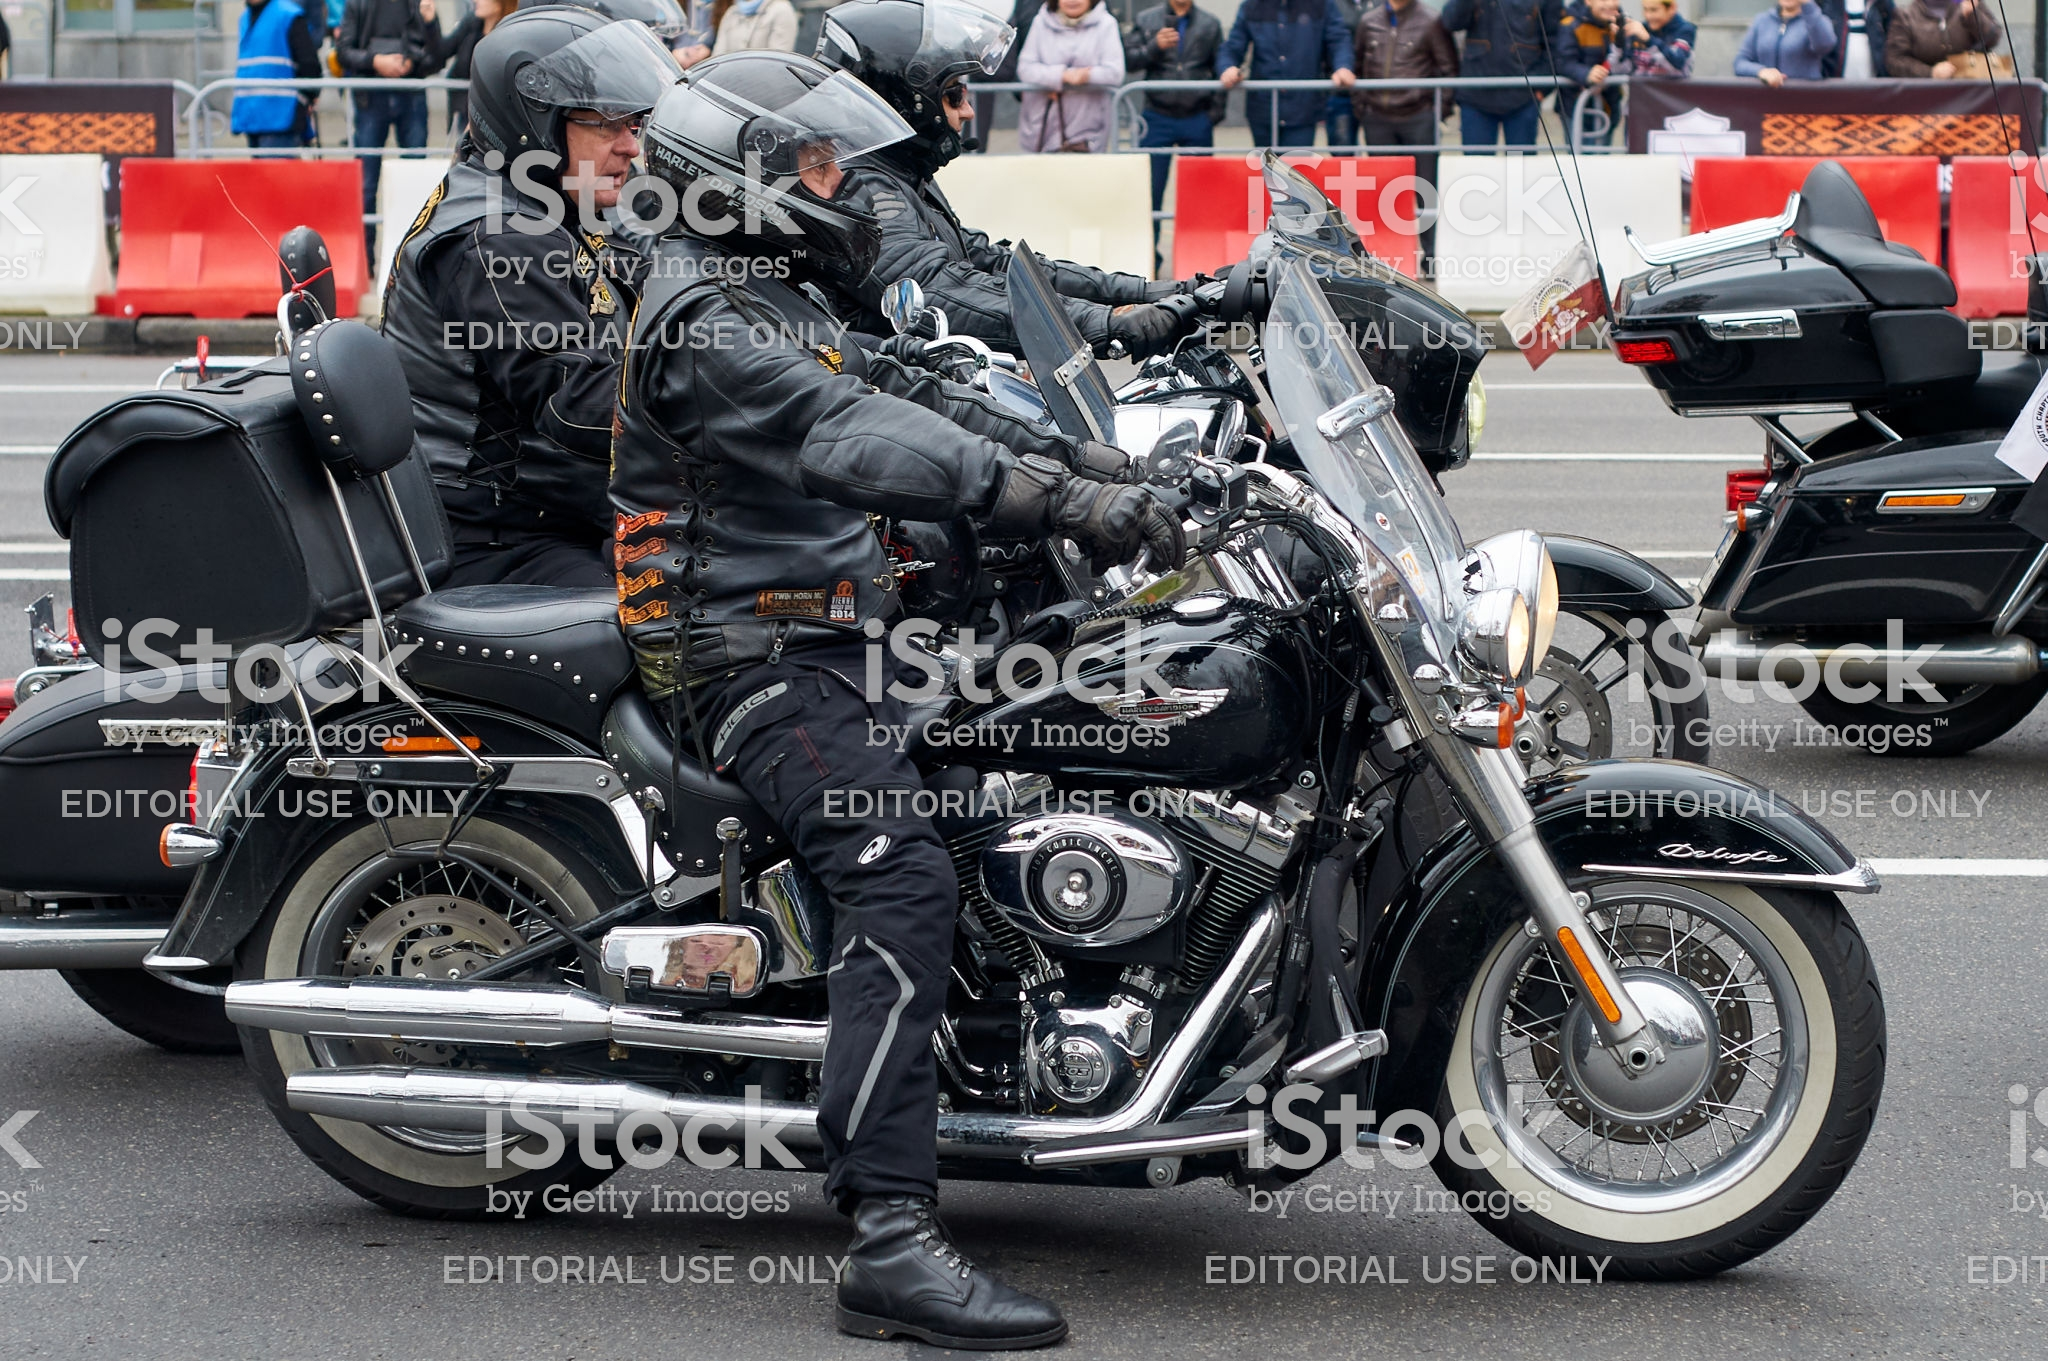helmet: (660, 65, 900, 279), (455, 11, 656, 184)
